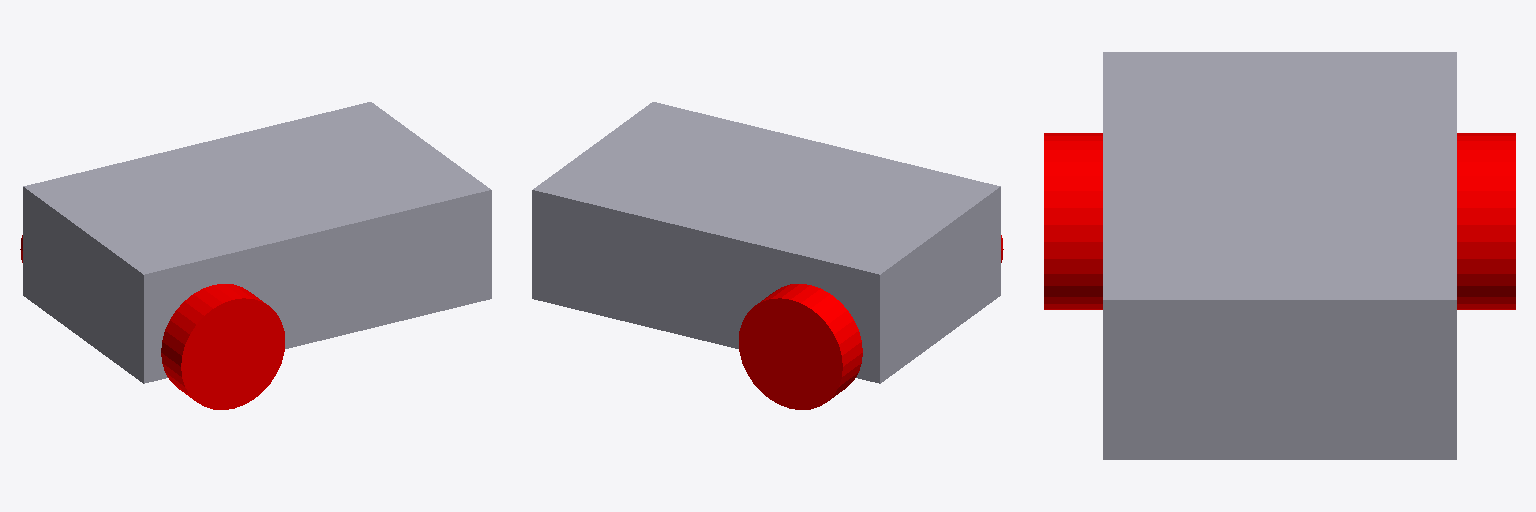
The robot description file, URDF, robot "mobile_robot":
<?xml version="1.0" ?>
<!-- =================================================================================== -->
<!-- |    This document was autogenerated by xacro from mobile_robot.xacro             | -->
<!-- |    EDITING THIS FILE BY HAND IS NOT RECOMMENDED                                 | -->
<!-- =================================================================================== -->
<robot name="mobile_robot">
  <!--do not ask why plutonium, it was just fun-->
  <material name="grey">
    <color rgba="0.7 0.7 0.75 1.0"/>
  </material>
  <material name="red">
    <color rgba="1 0 0 1"/>
  </material>
  <!--base-->
  <link name="base_link">
    <visual>
      <origin rpy="0 0 0" xyz="0 0 0.22499999999999998"/>
      <geometry>
        <box size="1.0 0.6 0.3"/>
      </geometry>
      <material name="grey"/>
    </visual>
    <collision>
      <origin rpy="0 0 0" xyz="0 0 0.22499999999999998"/>
      <geometry>
        <box size="1.0 0.6 0.3"/>
      </geometry>
    </collision>
    <inertial>
      <origin rpy="0 0 0" xyz="0 0 0.22499999999999998"/>
      <mass value="3566.8799999999997"/>
      <inertia ixx="133.75799999999995" ixy="0.0" ixz="0.0" iyy="404.2463999999999" iyz="0.0" izz="323.99159999999995"/>
    </inertial>
  </link>
  <!--left_wheel-->
  <link name="left_wheel">
    <visual>
      <geometry>
        <cylinder length="0.1" radius="0.15"/>
      </geometry>
      <material name="red"/>
      <origin rpy="1.5707963267948966 0 0"/>
    </visual>
    <collision>
      <geometry>
        <cylinder length="0.1" radius="0.15"/>
      </geometry>
      <origin rpy="1.5707963267948966 0 0"/>
    </collision>
    <inertial>
      <mass value="140.07105005295455"/>
      <inertia ixx="0.904625531591998" ixy="0.0" ixz="0.0" iyy="0.904625531591998" iyz="0.0" izz="1.5757993130957386"/>
    </inertial>
  </link>
  <joint name="left_wheel_joint" type="continuous">
    <parent link="base_link"/>
    <child link="left_wheel"/>
    <origin rpy="0 0 0" xyz="-0.3 0.35 0.15"/>
    <axis xyz="0 1 0"/>
  </joint>
  <!--right_wheel-->
  <link name="right_wheel">
    <visual>
      <geometry>
        <cylinder length="0.1" radius="0.15"/>
      </geometry>
      <material name="red"/>
      <origin rpy="1.5707963267948966 0 0"/>
    </visual>
    <collision>
      <geometry>
        <cylinder length="0.1" radius="0.15"/>
      </geometry>
      <origin rpy="1.5707963267948966 0 0"/>
    </collision>
    <inertial>
      <mass value="140.07105005295455"/>
      <inertia ixx="0.904625531591998" ixy="0.0" ixz="0.0" iyy="0.904625531591998" iyz="0.0" izz="1.5757993130957386"/>
    </inertial>
  </link>
  <joint name="right_wheel_joint" type="continuous">
    <parent link="base_link"/>
    <child link="right_wheel"/>
    <origin rpy="0 0 0" xyz="-0.3 -0.35 0.15"/>
    <axis xyz="0 1 0"/>
  </joint>
  <!--caster_wheel-->
  <link name="caster_wheel">
    <visual>
      <geometry>
        <sphere radius="0.15"/>
      </geometry>
      <material name="red"/>
    </visual>
    <collision>
      <geometry>
        <sphere radius="0.15"/>
      </geometry>
    </collision>
    <inertial>
      <mass value="280.142100105909"/>
      <inertia ixx="2.521278900953181" ixy="0.0" ixz="0.0" iyy="2.521278900953181" iyz="0.0" izz="2.521278900953181"/>
    </inertial>
  </link>
  <joint name="caster_joint" type="fixed">
    <parent link="base_link"/>
    <child link="caster_wheel"/>
    <origin rpy="0 0 0" xyz="0.3 0 0.15"/>
  </joint>
</robot>

--- Facts derived from the render (not from the file) ---
3 views of the same robot in one strip: view 1: azimuth 30°, elevation 25°; view 2: azimuth 150°, elevation 25°; view 3: azimuth 270°, elevation 25° (orthographic).
Model mobile_robot with 4 links and 3 joints (2 continuous, 1 fixed), rooted at base_link, posed all joints at 0.
Links seen in each view (by area): view 1: base_link, right_wheel; view 2: base_link, left_wheel; view 3: base_link, left_wheel, right_wheel.
Boxes of the visible links, left/top/right/bottom form: base_link: left=23, top=102, right=491, bottom=383; right_wheel: left=161, top=284, right=284, bottom=409; base_link: left=532, top=102, right=1000, bottom=383; left_wheel: left=739, top=284, right=862, bottom=409; base_link: left=1103, top=52, right=1456, bottom=459; left_wheel: left=1457, top=133, right=1515, bottom=309; right_wheel: left=1044, top=133, right=1102, bottom=309.
Bounding box of the posed robot: 1 × 0.8 × 0.375 m (x, y, z).
Geometry: primitives only (box / cylinder / sphere), no mesh files.
